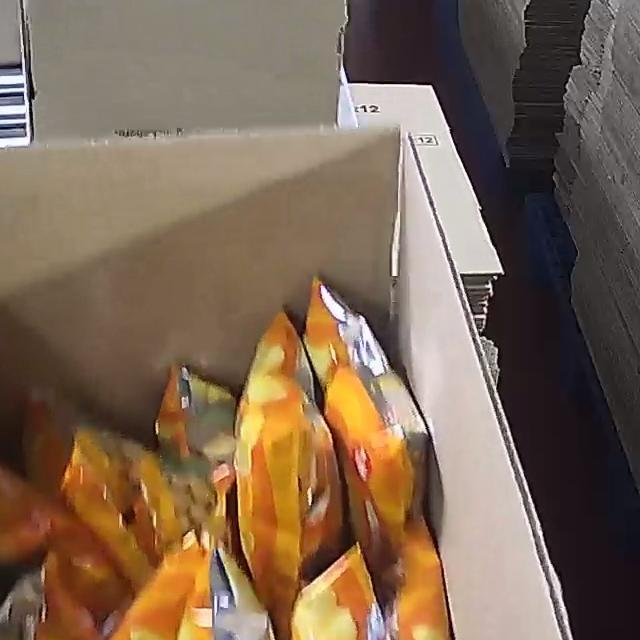cheese: (0, 275, 510, 640)
